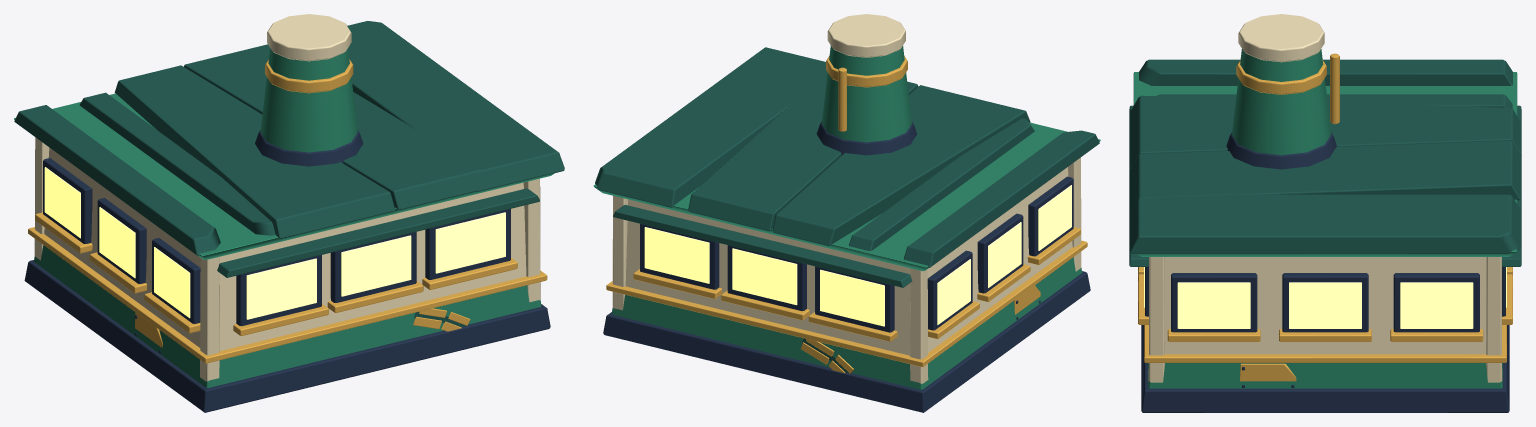
File: deckhouse.glb
The picture shows the model from 3 angles, left to right: view 1: azimuth 30°, elevation 25°; view 2: azimuth 150°, elevation 25°; view 3: azimuth 270°, elevation 25°; orthographic projection. The views are drawn at different scales.
Parts seen in each view (by area): view 1: deckhouse; view 2: deckhouse; view 3: deckhouse.
Boxes of the visible parts, left/top/right/bottom form: deckhouse: left=14, top=14, right=564, bottom=412; deckhouse: left=593, top=14, right=1100, bottom=412; deckhouse: left=1129, top=14, right=1521, bottom=412.
Size of the model in its own units: 6.37 by 4.84 by 5.82.
